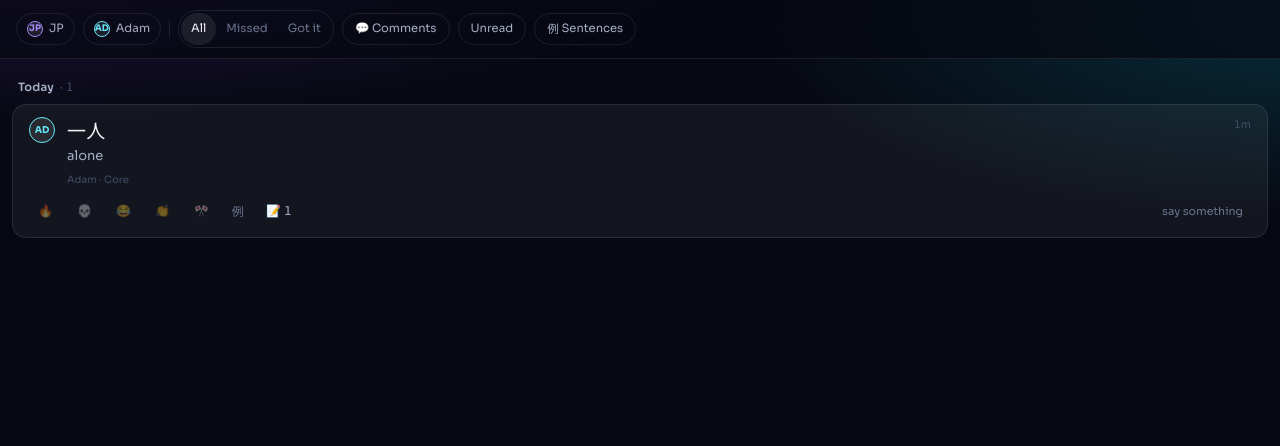
Scenario: notes on feed cards › toggles closed again
The image size is (1280, 446).
Click the button with test id "notes-adam:1" at coordinates (279, 211), box [258, 195, 300, 227]
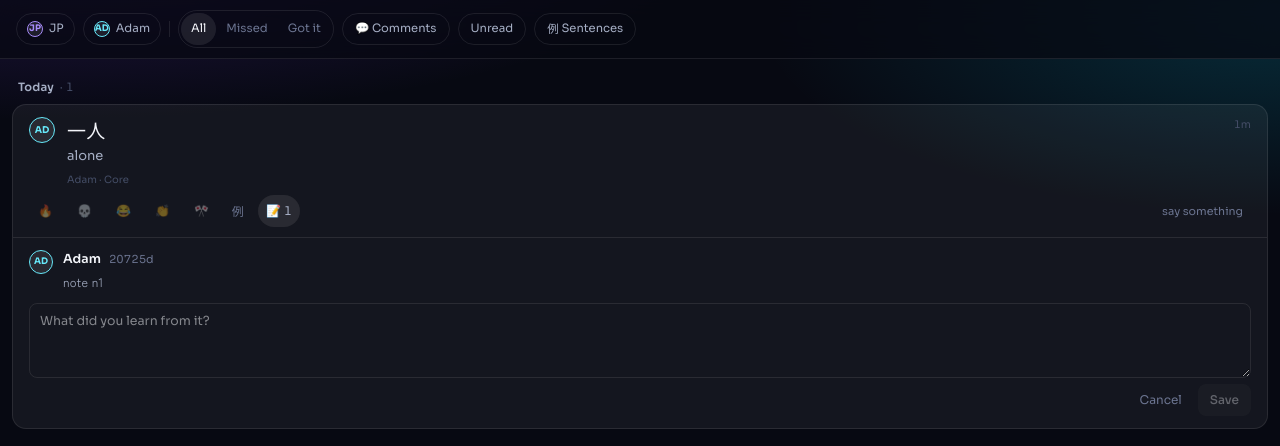
Click the button with test id "notes-adam:1" at coordinates (279, 211), box [258, 195, 300, 227]
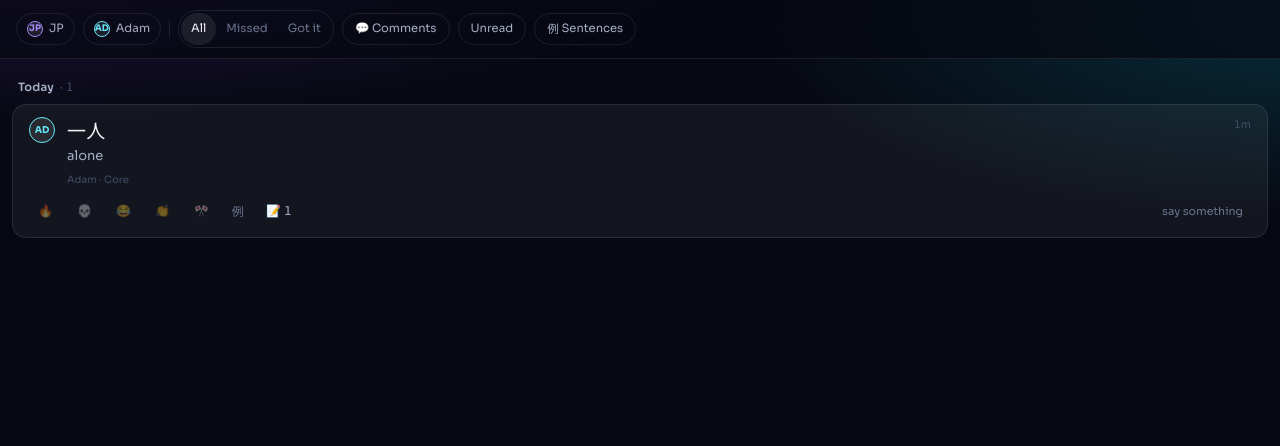
Now the list item with test id "note-n1" is gone
